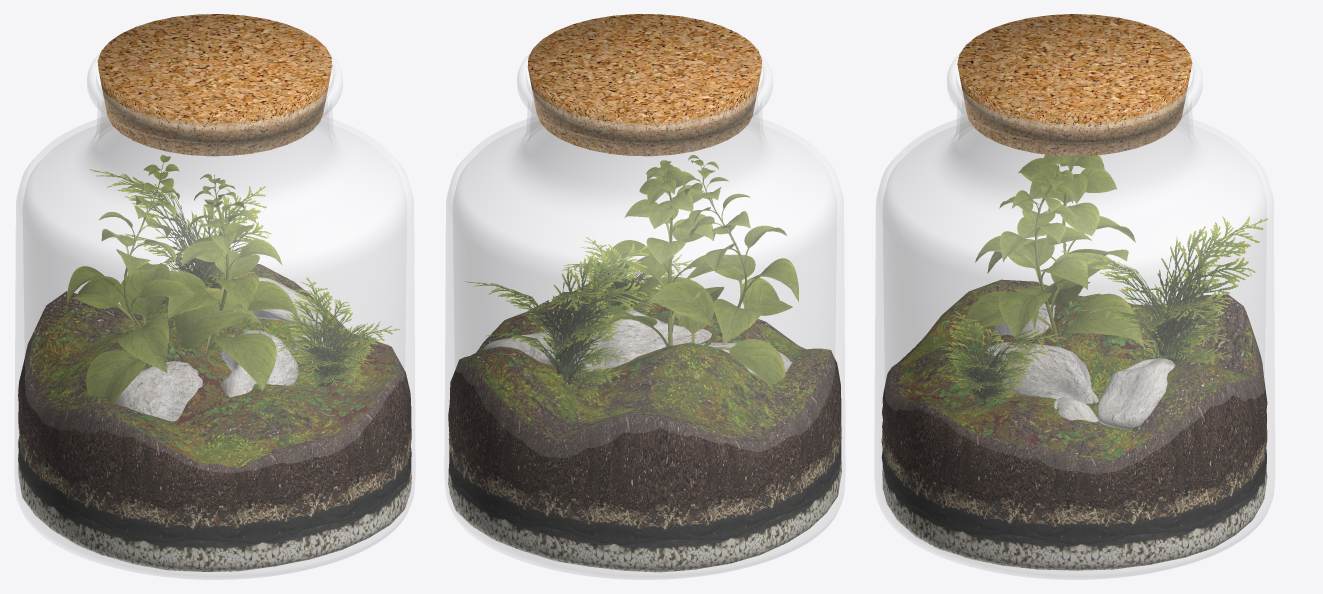
File: forest-in-a-jar.glb
3 views of the same model, side by side, from view 1: azimuth 30°, elevation 25°; view 2: azimuth 150°, elevation 25°; view 3: azimuth 270°, elevation 25° (orthographic).
Parts seen in each view (by area): view 1: Cylinder.001_0_3; view 2: Cylinder.001_0_3; view 3: Cylinder.001_0_3.
Part boxes in pixels (x1,y1,x2,y2): Cylinder.001_0_3: (14,14,415,579); Cylinder.001_0_3: (444,14,845,579); Cylinder.001_0_3: (874,14,1274,579).
Size of the model in its own units: 1.95 by 2.35 by 2.11.
8 materials, 6 textured.
